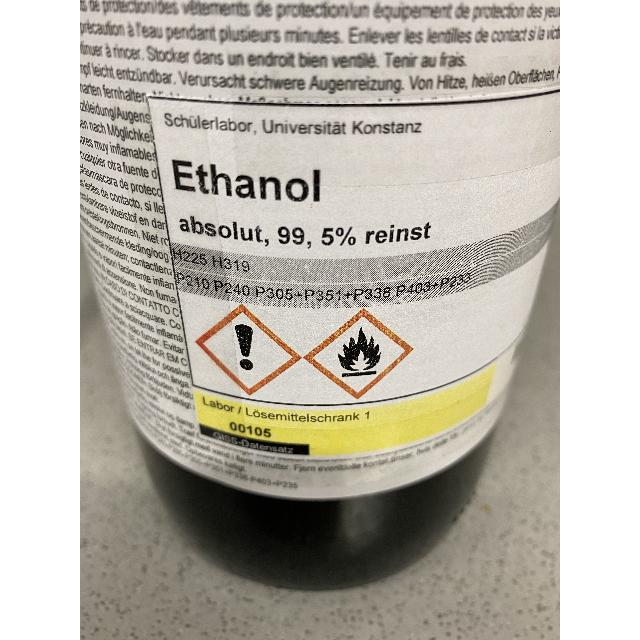flammable: (302, 307, 416, 401)
health-ozone layer hazard: (192, 302, 300, 396)
